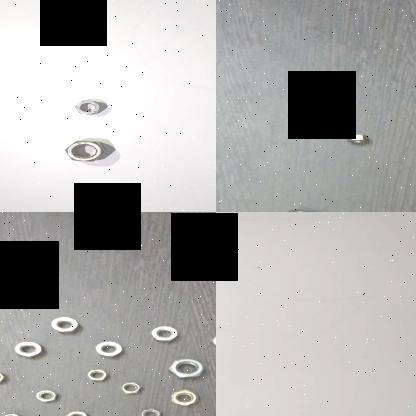NUTS: (58, 138, 113, 164), (168, 356, 208, 380), (67, 96, 110, 118), (142, 323, 183, 345), (167, 388, 201, 408), (12, 339, 46, 358), (46, 317, 82, 333), (94, 341, 122, 358), (338, 133, 377, 145), (116, 380, 144, 394), (34, 390, 63, 403), (85, 368, 106, 383), (135, 407, 165, 416), (205, 329, 216, 351), (283, 207, 327, 212), (60, 409, 88, 416), (0, 411, 24, 416)
